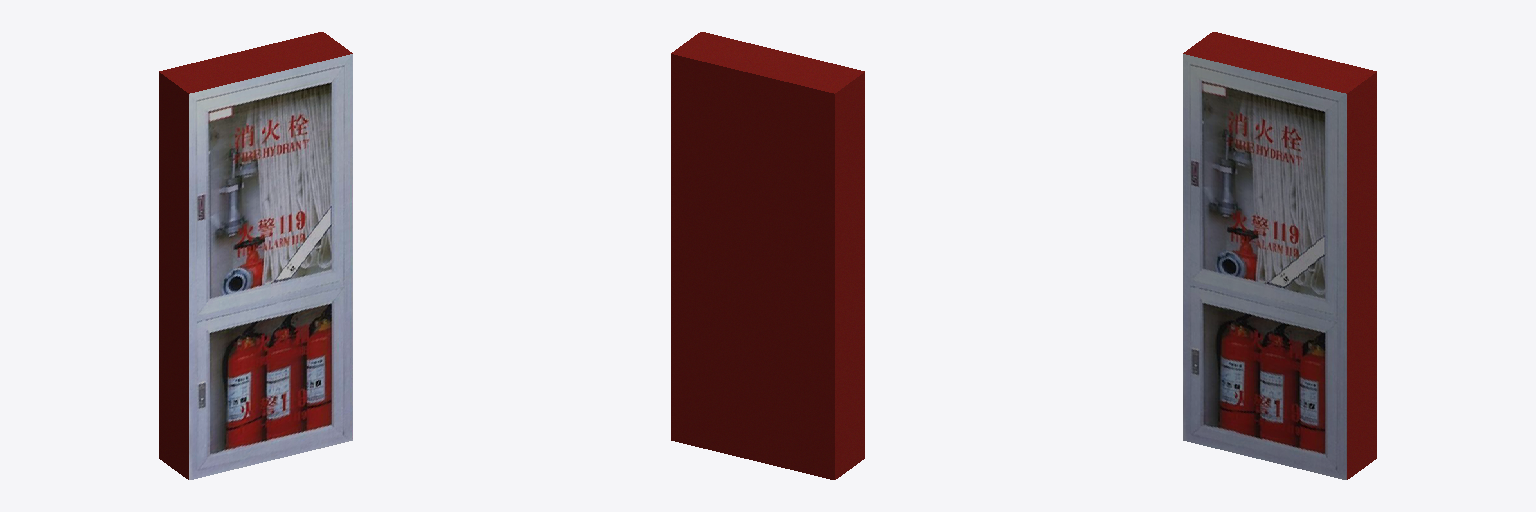
3 views of the same model, side by side, from view 1: azimuth 30°, elevation 25°; view 2: azimuth 150°, elevation 25°; view 3: azimuth 330°, elevation 25° (orthographic).
Parts seen in each view (by area): view 1: xj_xfs_002_001, xj_xfs_002_002; view 2: xj_xfs_002_002; view 3: xj_xfs_002_001, xj_xfs_002_002.
Part boxes in pixels (bbox=[...]): xj_xfs_002_001: bbox=[189, 54, 352, 479]; xj_xfs_002_002: bbox=[159, 32, 352, 479]; xj_xfs_002_002: bbox=[671, 32, 864, 479]; xj_xfs_002_001: bbox=[1183, 54, 1346, 479]; xj_xfs_002_002: bbox=[1183, 32, 1376, 479].
Bounding box in the file's own units: 62.3 × 140 × 20.
Materials: 2 (2 with a texture image).